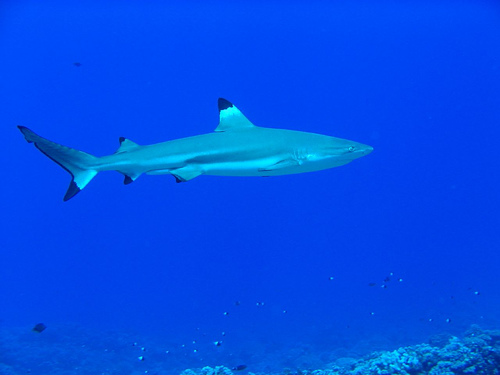shark: (7, 79, 390, 218)
